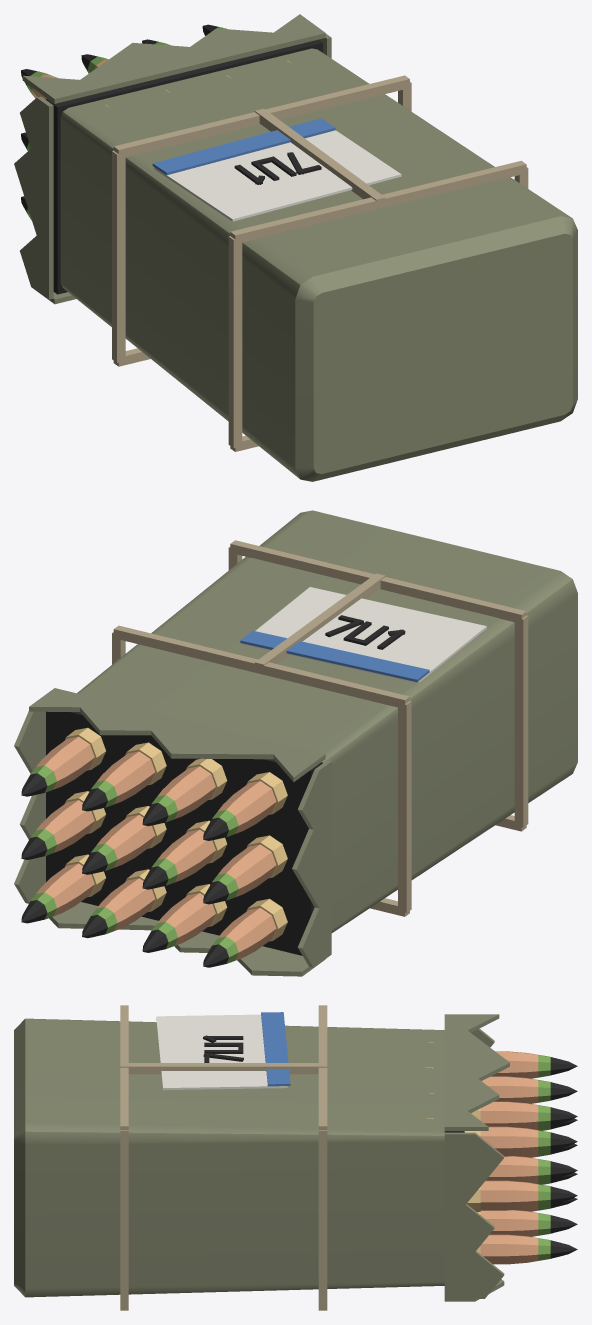
File: ammo_545_us.glb
3 renders of one model, top to bottom at view 1: azimuth 30°, elevation 25°; view 2: azimuth 150°, elevation 25°; view 3: azimuth 270°, elevation 25°, orthographic. The views are drawn at different scales.
Visible parts, largest first — view 1: body; view 2: body; view 3: body.
Part boxes in pixels (bbox=[...]): body: bbox=[14, 14, 577, 481]; body: bbox=[14, 510, 577, 976]; body: bbox=[14, 1005, 577, 1310].
Bounding box in the file's own units: 0.0511 × 0.0361 × 0.0995.
